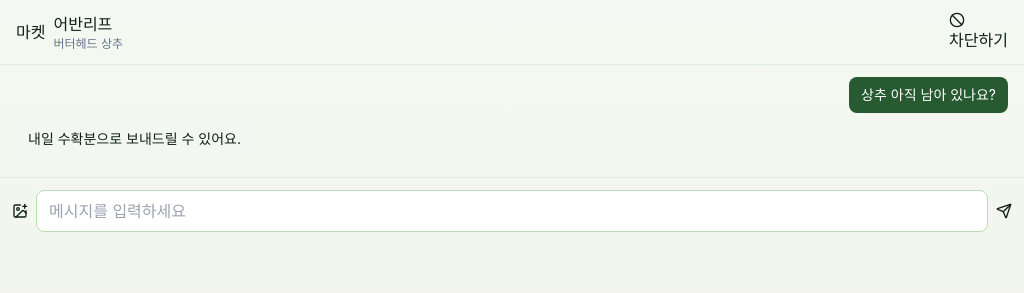
Test case: ChatConversationPanel › 메시지를 보내면 목록 끝에 붙는다
Expected: the text "상추 아직 남아 있나요?" is shown, [861,86,996,103]
In the field named "메시지 입력": (512, 211) [36,190,988,232], type "금요일에 받을 수 있을까요?"
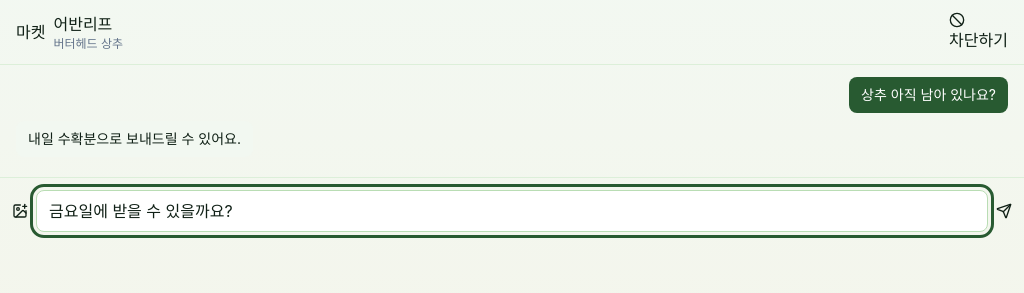
Click the button named "보내기": (1004, 211) [996,190,1012,232]
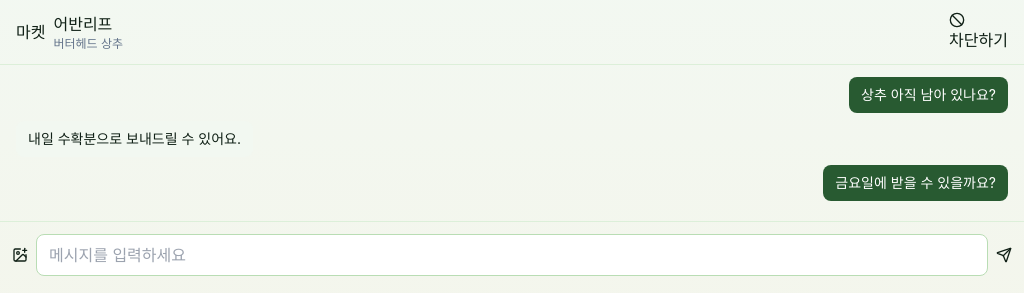
Now the text "금요일에 받을 수 있을까요?" is shown, box [835,174,996,191]
